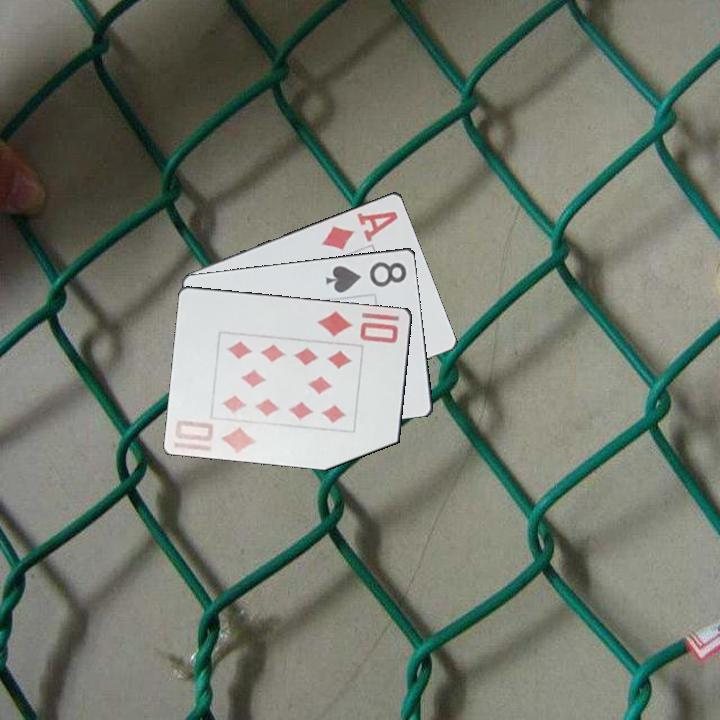8s: (322, 258, 410, 295)
Ad: (318, 207, 401, 254)
Td: (172, 416, 260, 455), (314, 307, 401, 346)
